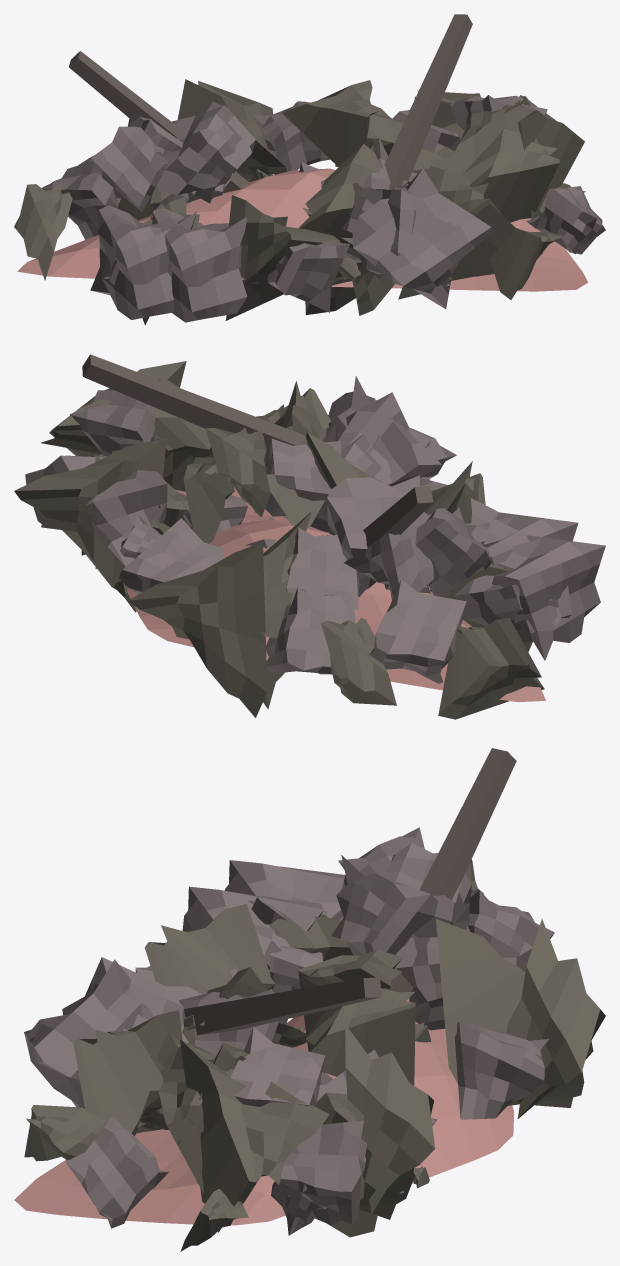
The model's file is Rubble.fbx.
The picture shows the model from 3 angles, top to bottom: view 1: azimuth 30°, elevation 25°; view 2: azimuth 150°, elevation 25°; view 3: azimuth 270°, elevation 25°; orthographic projection. The views are drawn at different scales.
Visible parts, largest first — view 1: dirt, rubble 1|Cube.002 - copy.001|Dupli|25, rubble 1|Cube.002 - copy.001|Dupli|10, rubble 1|Cube.002 - copy.001|Dupli|18, rubble 1|Cube.002 - copy.001|Dupli|15, rubble 2|Cube.003 - copy.001|Dupli|21, rubble 2|Cube.003 - copy.001|Dupli|1, rod 1, rubble 2|Cube.003 - copy.001|Dupli|16, rubble 1|Cube.002 - copy.001|Dupli|8, rubble 1|Cube.002 - copy.001|Dupli|2, rubble 2|Cube.003 - copy.001|Dupli|6 (+25 smaller); view 2: rubble 2|Cube.003 - copy.001|Dupli|18, rubble 1|Cube.002 - copy.001|Dupli|18, rubble 2|Cube.003 - copy.001|Dupli|10, rubble 2|Cube.003 - copy.001|Dupli|22, rubble 1|Cube.002 - copy.001|Dupli|9, dirt, rod 1, rubble 1|Cube.002 - copy.001|Dupli|19, rubble 1|Cube.002 - copy.001|Dupli|15, rubble 1|Cube.002 - copy.001|Dupli|17, rubble 2|Cube.003 - copy.001|Dupli|9, rubble 1|Cube.002 - copy.001|Dupli|8 (+26 smaller); view 3: dirt, rubble 2|Cube.003 - copy.001|Dupli|24, rubble 2|Cube.003 - copy.001|Dupli|10, rubble 2|Cube.003 - copy.001|Dupli|18, rubble 2|Cube.003 - copy.001|Dupli|6, rubble 2|Cube.003 - copy.001|Dupli|2, rubble 1|Cube.002 - copy.001|Dupli|15, rubble 2|Cube.003 - copy.001|Dupli|1, rubble 1|Cube.002 - copy.001|Dupli|25, rubble 1|Cube.002 - copy.001|Dupli|7, rubble 1|Cube.002 - copy.001|Dupli|, rubble 2|Cube.003 - copy.001|Dupli|5 (+24 smaller).
Part boxes in pixels (x1,y1,x2,y2): dirt: [17, 168, 587, 291]; rubble 1|Cube.002 - copy.001|Dupli|25: [352, 168, 495, 309]; rubble 1|Cube.002 - copy.001|Dupli|10: [152, 208, 247, 322]; rubble 1|Cube.002 - copy.001|Dupli|18: [90, 205, 196, 319]; rubble 1|Cube.002 - copy.001|Dupli|15: [156, 101, 255, 203]; rubble 2|Cube.003 - copy.001|Dupli|21: [463, 128, 559, 222]; rubble 2|Cube.003 - copy.001|Dupli|1: [225, 195, 339, 320]; rod 1: [384, 14, 472, 189]; rubble 2|Cube.003 - copy.001|Dupli|16: [282, 80, 379, 167]; rubble 1|Cube.002 - copy.001|Dupli|8: [91, 126, 167, 211]; rubble 1|Cube.002 - copy.001|Dupli|2: [267, 239, 349, 312]; rubble 2|Cube.003 - copy.001|Dupli|6: [398, 165, 542, 299]; rubble 2|Cube.003 - copy.001|Dupli|18: [128, 542, 267, 717]; rubble 1|Cube.002 - copy.001|Dupli|18: [483, 517, 605, 660]; rubble 2|Cube.003 - copy.001|Dupli|10: [14, 438, 166, 612]; rubble 2|Cube.003 - copy.001|Dupli|22: [438, 618, 544, 719]; rubble 1|Cube.002 - copy.001|Dupli|9: [370, 579, 466, 683]; dirt: [127, 487, 545, 702]; rod 1: [82, 354, 307, 455]; rubble 1|Cube.002 - copy.001|Dupli|19: [264, 587, 355, 674]; rubble 1|Cube.002 - copy.001|Dupli|15: [327, 475, 419, 596]; rubble 1|Cube.002 - copy.001|Dupli|17: [86, 470, 167, 566]; rubble 2|Cube.003 - copy.001|Dupli|9: [321, 618, 396, 705]; rubble 1|Cube.002 - copy.001|Dupli|8: [415, 507, 491, 597]; dirt: [14, 998, 514, 1225]; rubble 2|Cube.003 - copy.001|Dupli|24: [180, 1039, 329, 1232]; rubble 2|Cube.003 - copy.001|Dupli|10: [345, 1024, 435, 1219]; rubble 2|Cube.003 - copy.001|Dupli|18: [506, 918, 605, 1118]; rubble 2|Cube.003 - copy.001|Dupli|6: [73, 1010, 182, 1135]; rubble 2|Cube.003 - copy.001|Dupli|2: [436, 919, 525, 1083]; rubble 1|Cube.002 - copy.001|Dupli|15: [331, 855, 469, 991]; rubble 2|Cube.003 - copy.001|Dupli|1: [144, 904, 275, 994]; rubble 1|Cube.002 - copy.001|Dupli|25: [24, 959, 153, 1108]; rubble 1|Cube.002 - copy.001|Dupli|7: [455, 1021, 548, 1119]; rubble 1|Cube.002 - copy.001|Dupli|: [270, 1120, 366, 1225]; rubble 2|Cube.003 - copy.001|Dupli|5: [305, 988, 415, 1085].
Bounding box in the file's own units: 698 × 474 × 910.
